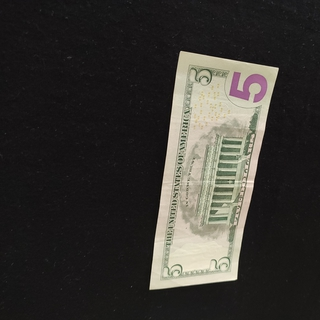5USDBack: (148, 50, 278, 291)
